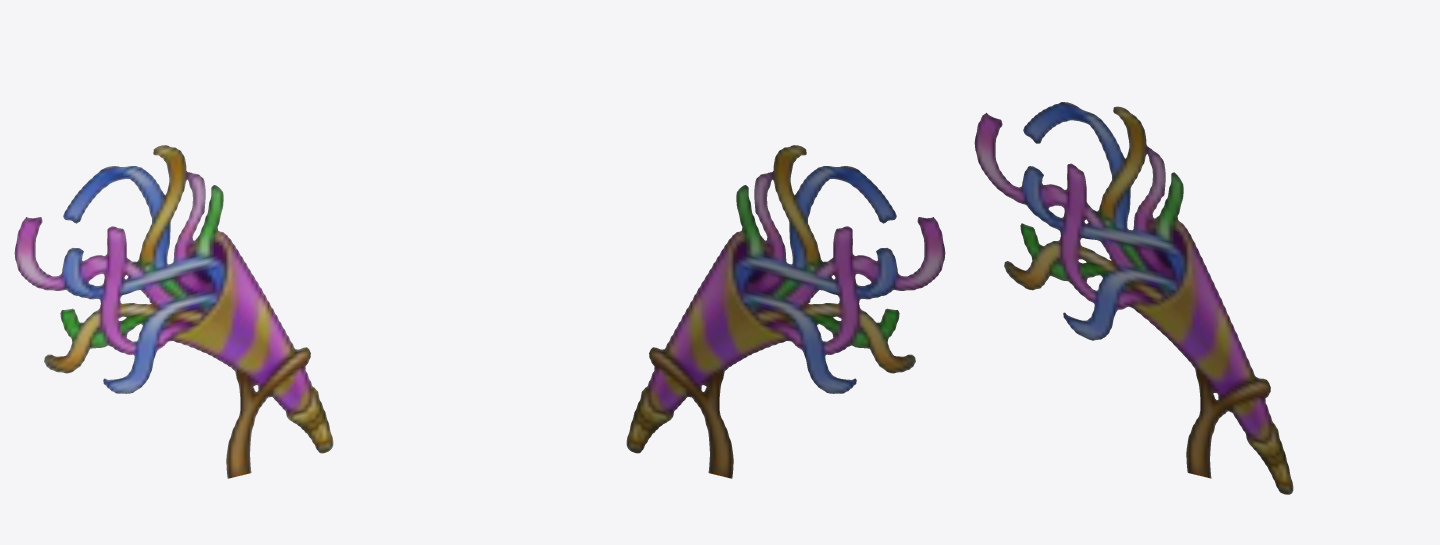
Rendered from horn.glb.
The picture shows the model from 3 angles, left to right: view 1: azimuth 30°, elevation 25°; view 2: azimuth 150°, elevation 25°; view 3: azimuth 330°, elevation 25°; orthographic projection.
Parts seen in each view (by area): view 1: partyDecoration_Horn__billboard; view 2: partyDecoration_Horn__billboard; view 3: partyDecoration_Horn__billboard.
Part boxes in pixels (bbox=[...]): partyDecoration_Horn__billboard: bbox=[14, 145, 333, 478]; partyDecoration_Horn__billboard: bbox=[626, 145, 945, 478]; partyDecoration_Horn__billboard: bbox=[974, 102, 1293, 494].
Size of the model in its own units: 7.12 by 6.12 by 0.
Materials: 1 (1 with a texture image).
